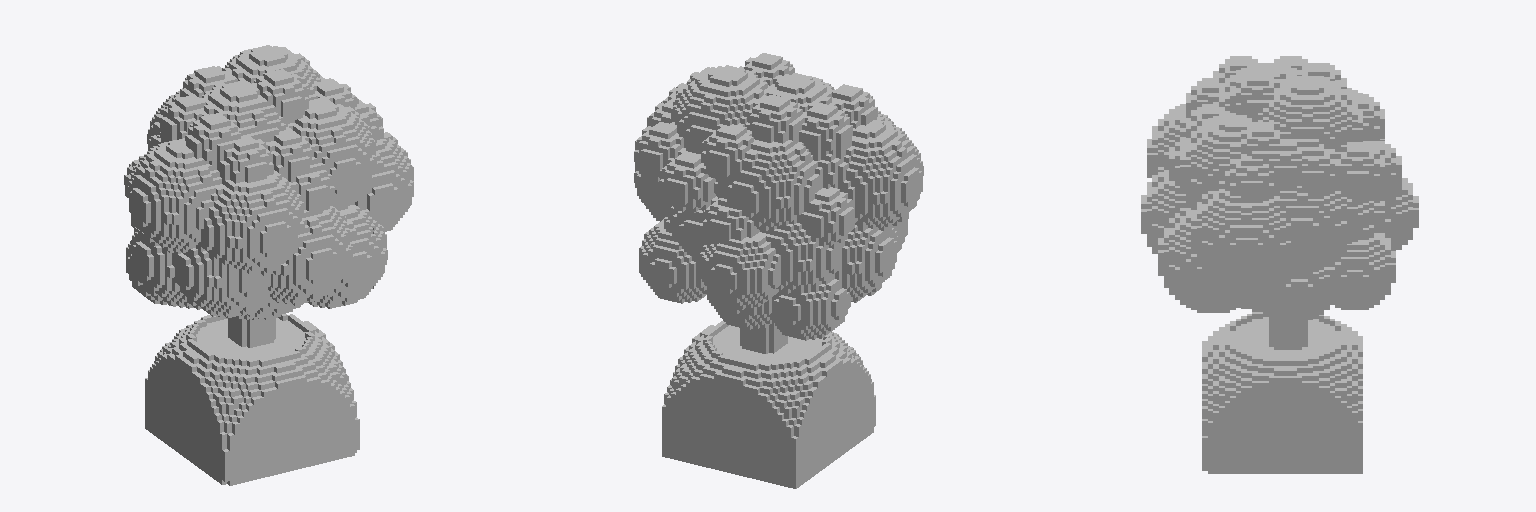
Rendered from Tree3.obj.
The picture shows the model from 3 angles: view 1: azimuth 30°, elevation 25°; view 2: azimuth 150°, elevation 25°; view 3: azimuth 270°, elevation 25°; orthographic projection.
Parts seen in each view (by area): view 1: object 1; view 2: object 1; view 3: object 1.
Boxes of the visible parts, <box> form: object 1: <box>124,45,413,485</box>; object 1: <box>634,53,923,488</box>; object 1: <box>1141,56,1418,473</box>.
Bounding box in the file's own units: 5.5 × 7.4 × 5.